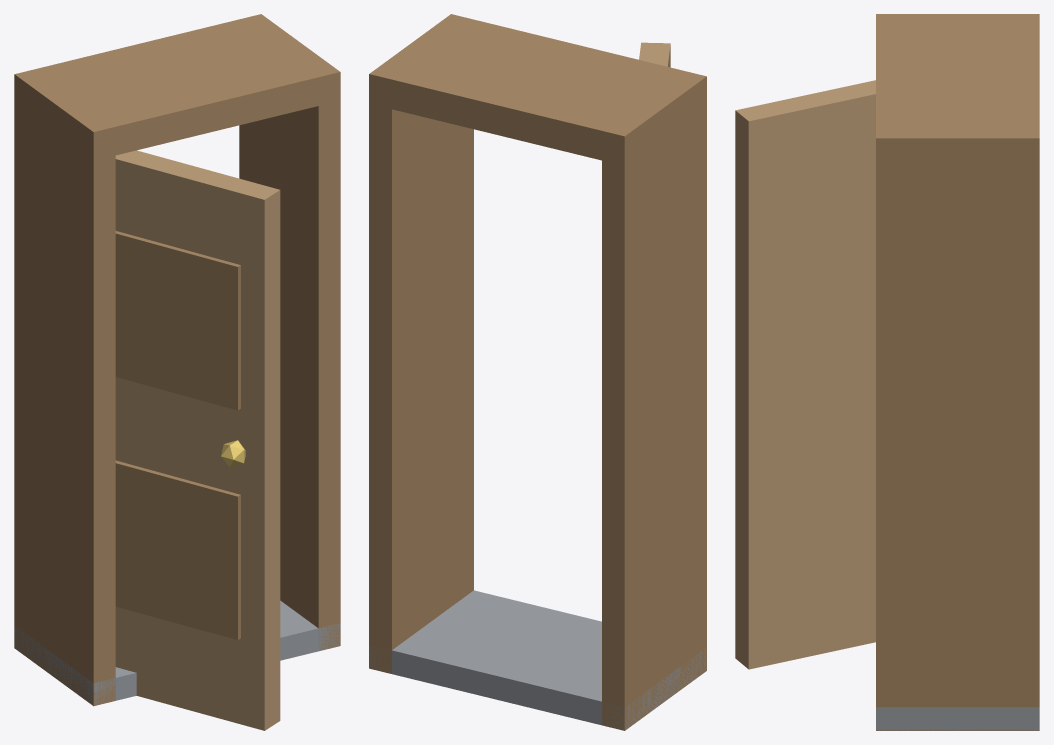
The model's file is animprop_door_03.glb.
3 views of the same model, side by side, from view 1: azimuth 30°, elevation 25°; view 2: azimuth 150°, elevation 25°; view 3: azimuth 270°, elevation 25° (orthographic). The views are drawn at different scales.
Visible parts, largest first — view 1: animprop; view 2: animprop; view 3: animprop.
Boxes of the visible parts, x1,y1,x2,y2 form: animprop: (14,14,340,730); animprop: (369,14,706,730); animprop: (735,14,1039,730).
Size of the model in its own units: 0.9 by 2 by 0.9299.
